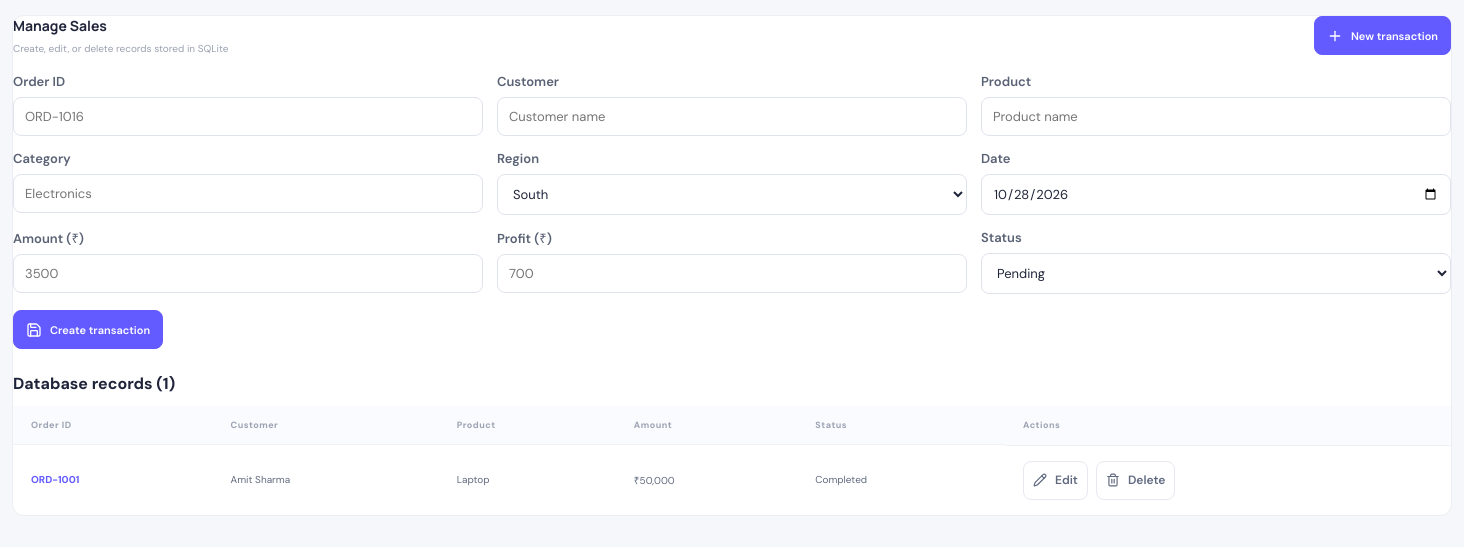
Test: SalesManager › deletes a transaction after confirmation
Click the button with aria-label "Delete ORD-1001": (1136, 480) [1096, 460, 1176, 500]
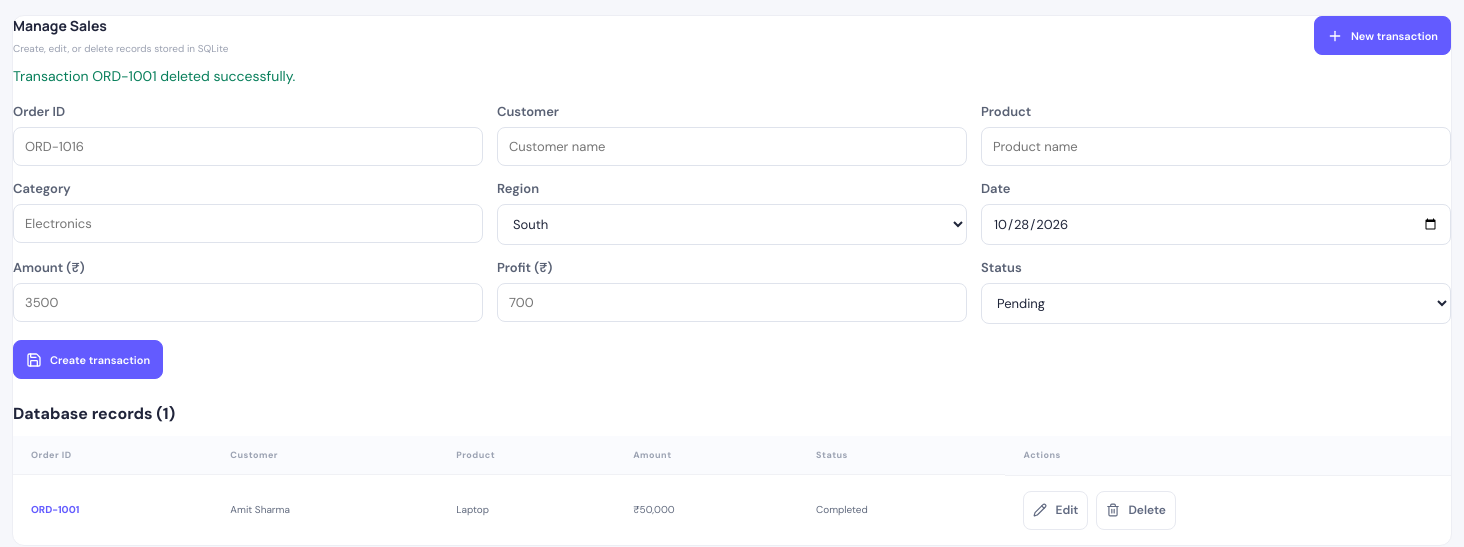
Expected: the message reads "Transaction ORD-1001 deleted successfully.", [13, 67, 295, 85]
